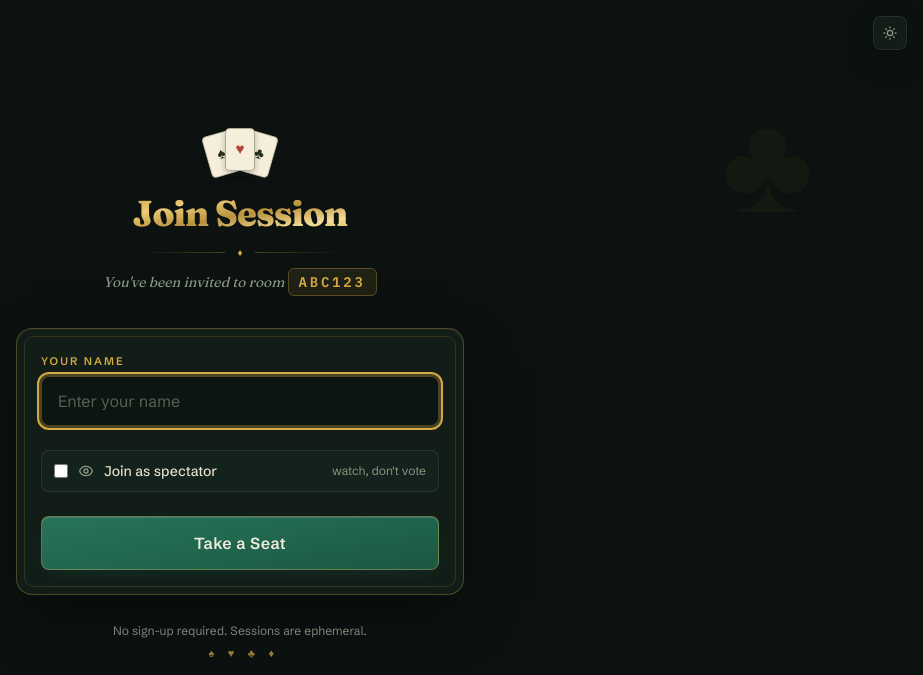
it: Join page › shows loading state while joining
Type "Charlie" into the field labelled "Your Name" at {"x": 240, "y": 400}, box [41,376,439,426]
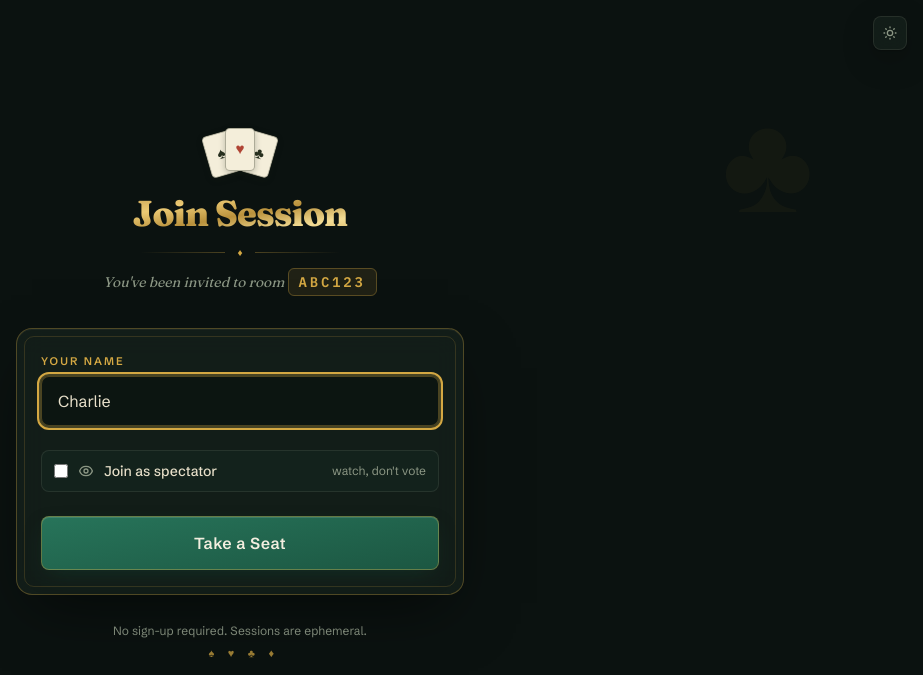
Click the button "Take a Seat" at {"x": 240, "y": 542}, box [41,516,439,570]
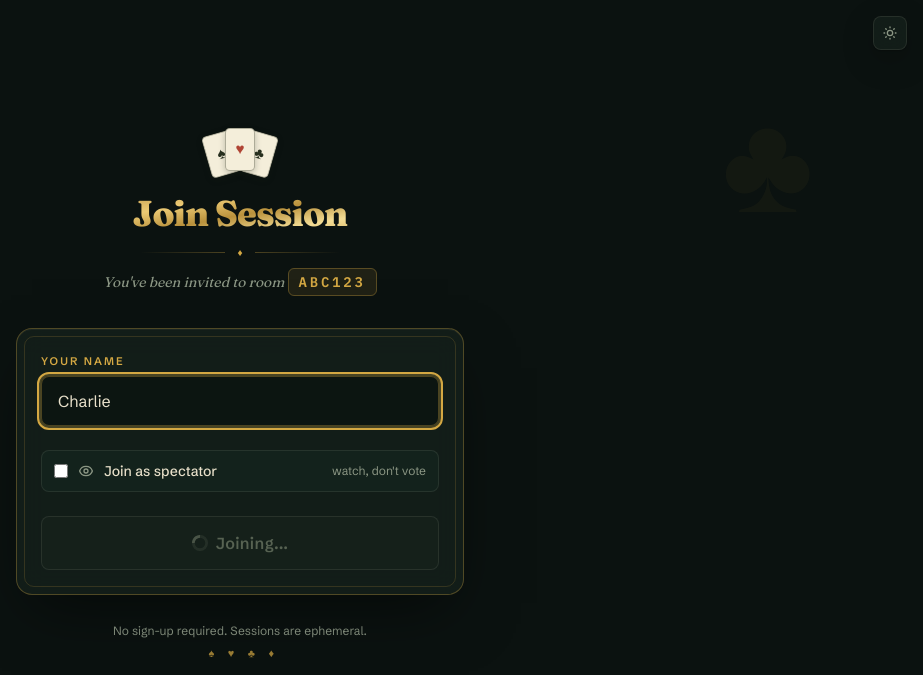
Result: the text "Joining..." is shown at [192,532,288,552]
